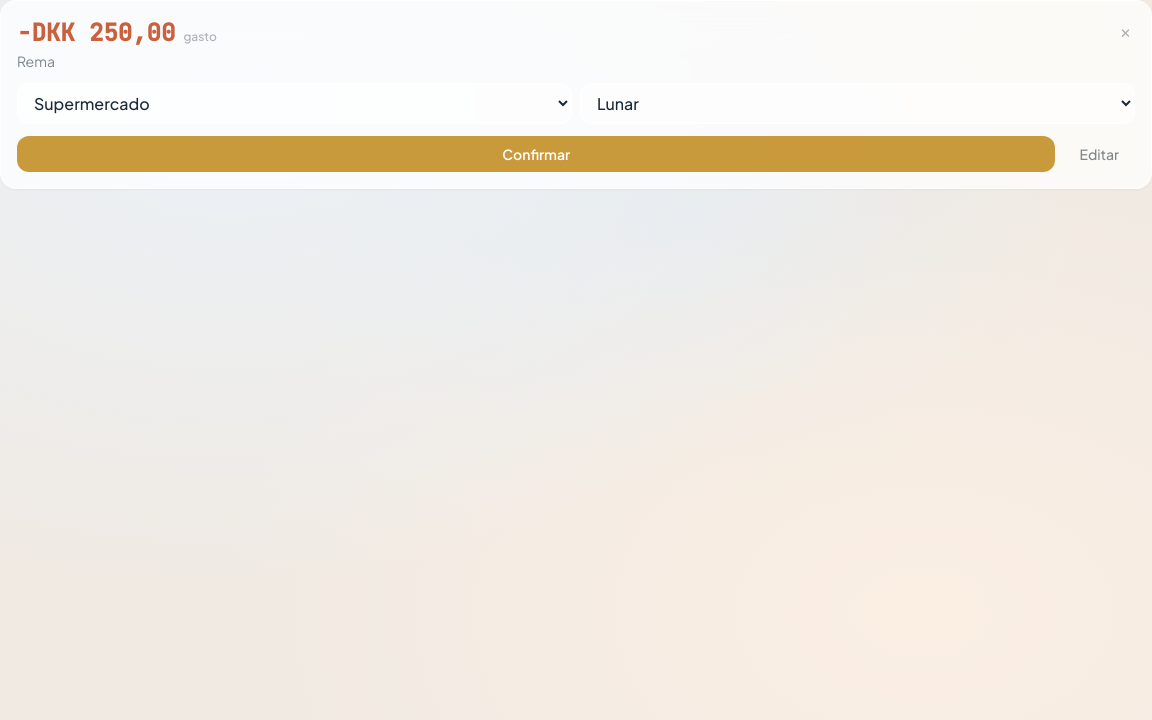
Test: ConfirmChip › shows error message on failed POST
The width and height of the screenshot is (1152, 720).
Click the button "Confirmar" at (536, 154), box top-left (17, 136), bottom-right (1055, 172)
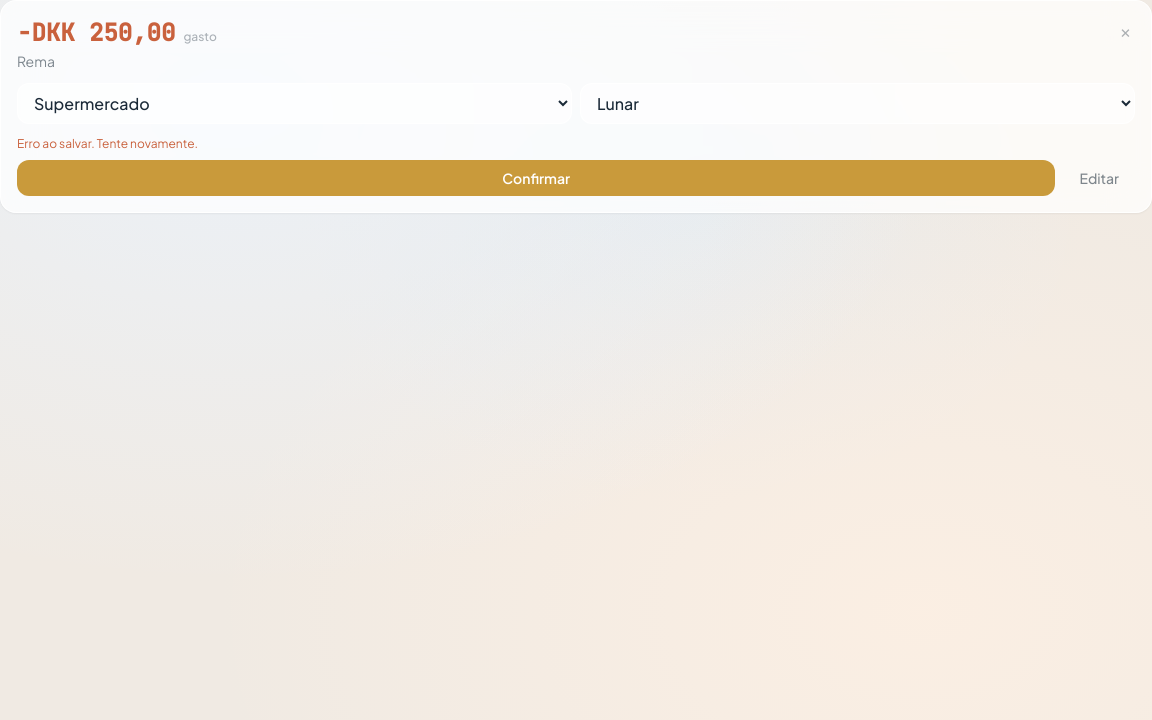
Expected: the text "Erro ao salvar. Tente novamente." is shown, top-left (17, 136), bottom-right (198, 151)
